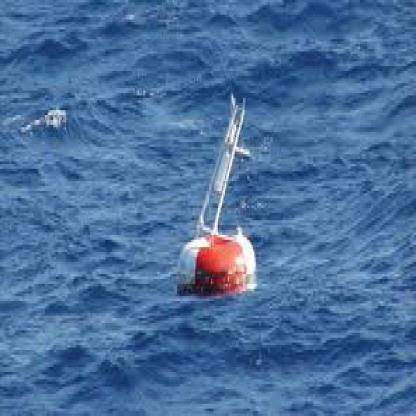buoy: (174, 93, 256, 294)
